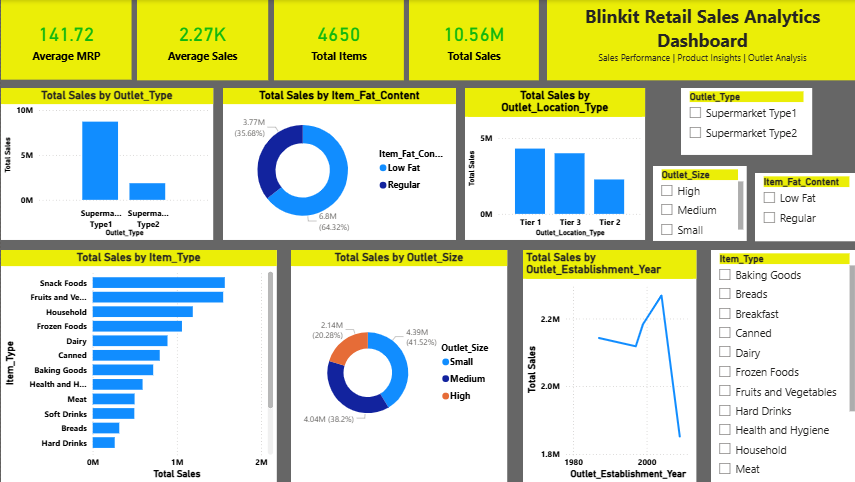

This screenshot's page, from the dashboard's own definition file:
{"tool":"powerbi","page":{"name":"Blinkit Sales Analysis Dashboard","canvas":[1280,720],"ordinal":0},"visuals":[{"type":"card","fields":{"Values":["blinkit_cleaned.Average MRP"]},"box":[0,0,194.9,119.3],"z":0},{"type":"card","fields":{"Values":["blinkit_cleaned.Average Sales"]},"box":[203.2,0,195.7,119.5],"z":1000},{"type":"card","fields":{"Values":["blinkit_cleaned.Total Items"]},"box":[407.8,0,194.2,119.5],"z":2000},{"type":"card","fields":{"Values":["blinkit_cleaned.Total Sales"]},"box":[609.5,0,194.2,119.5],"z":3000},{"type":"textbox","box":[815.6,0,464.6,119.5],"z":4000},{"type":"donutChart","fields":{"Y":["blinkit_cleaned.Total Sales"],"Category":["blinkit_cleaned.Item_Fat_Content"]},"box":[331.6,131.5,348,227.1],"z":5000},{"type":"clusteredBarChart","fields":{"Category":["blinkit_cleaned.Item_Type"],"Y":["blinkit_cleaned.Total Sales"]},"box":[0,372.9,411.5,347.7],"z":6000},{"type":"clusteredColumnChart","fields":{"Category":["blinkit_cleaned.Outlet_Type"],"Y":["blinkit_cleaned.Total Sales"]},"box":[0,131.5,316.7,227.1],"z":7000},{"type":"donutChart","fields":{"Category":["blinkit_cleaned.Outlet_Size"],"Y":["blinkit_cleaned.Total Sales"]},"box":[433.4,372.9,322.5,347.7],"z":8000},{"type":"clusteredColumnChart","fields":{"Category":["blinkit_cleaned.Outlet_Location_Type"],"Y":["blinkit_cleaned.Total Sales"]},"box":[693.1,131.5,268.9,227.1],"z":9000},{"type":"lineChart","fields":{"Category":["blinkit_cleaned.Outlet_Establishment_Year"],"Y":["blinkit_cleaned.Total Sales"]},"box":[779.4,372.9,258.7,347.7],"z":10000},{"type":"slicer","fields":{"Values":["blinkit_cleaned.Outlet_Type"]},"box":[1015.8,131.5,195.7,100.1],"z":11000},{"type":"slicer","fields":{"Values":["blinkit_cleaned.Outlet_Size"]},"box":[973.9,248,140.4,112],"z":12000},{"type":"slicer","fields":{"Values":["blinkit_cleaned.Item_Type"]},"box":[1060.6,373.4,219.6,346.6],"z":13000},{"type":"slicer","fields":{"Values":["blinkit_cleaned.Item_Fat_Content"]},"box":[1126.3,258.4,153.9,101.6],"z":14000}]}

Visuals, with their boxes in screenshot pixels (x1, y1, x2, y2), scaled from the page's 1280x720 canvas onto the 855x482 screenshot:
card - blinkit_cleaned.Average MRP: <box>0,0,130,80</box>
card - blinkit_cleaned.Average Sales: <box>136,0,266,80</box>
card - blinkit_cleaned.Total Items: <box>272,0,402,80</box>
card - blinkit_cleaned.Total Sales: <box>407,0,537,80</box>
textbox: <box>545,0,854,80</box>
donutChart - blinkit_cleaned.Total Sales x blinkit_cleaned.Item_Fat_Content: <box>221,88,454,240</box>
clusteredBarChart - blinkit_cleaned.Item_Type x blinkit_cleaned.Total Sales: <box>0,250,275,481</box>
clusteredColumnChart - blinkit_cleaned.Outlet_Type x blinkit_cleaned.Total Sales: <box>0,88,212,240</box>
donutChart - blinkit_cleaned.Outlet_Size x blinkit_cleaned.Total Sales: <box>289,250,505,481</box>
clusteredColumnChart - blinkit_cleaned.Outlet_Location_Type x blinkit_cleaned.Total Sales: <box>463,88,643,240</box>
lineChart - blinkit_cleaned.Outlet_Establishment_Year x blinkit_cleaned.Total Sales: <box>521,250,693,481</box>
slicer - blinkit_cleaned.Outlet_Type: <box>679,88,809,155</box>
slicer - blinkit_cleaned.Outlet_Size: <box>651,166,744,241</box>
slicer - blinkit_cleaned.Item_Type: <box>708,250,854,481</box>
slicer - blinkit_cleaned.Item_Fat_Content: <box>752,173,854,241</box>
